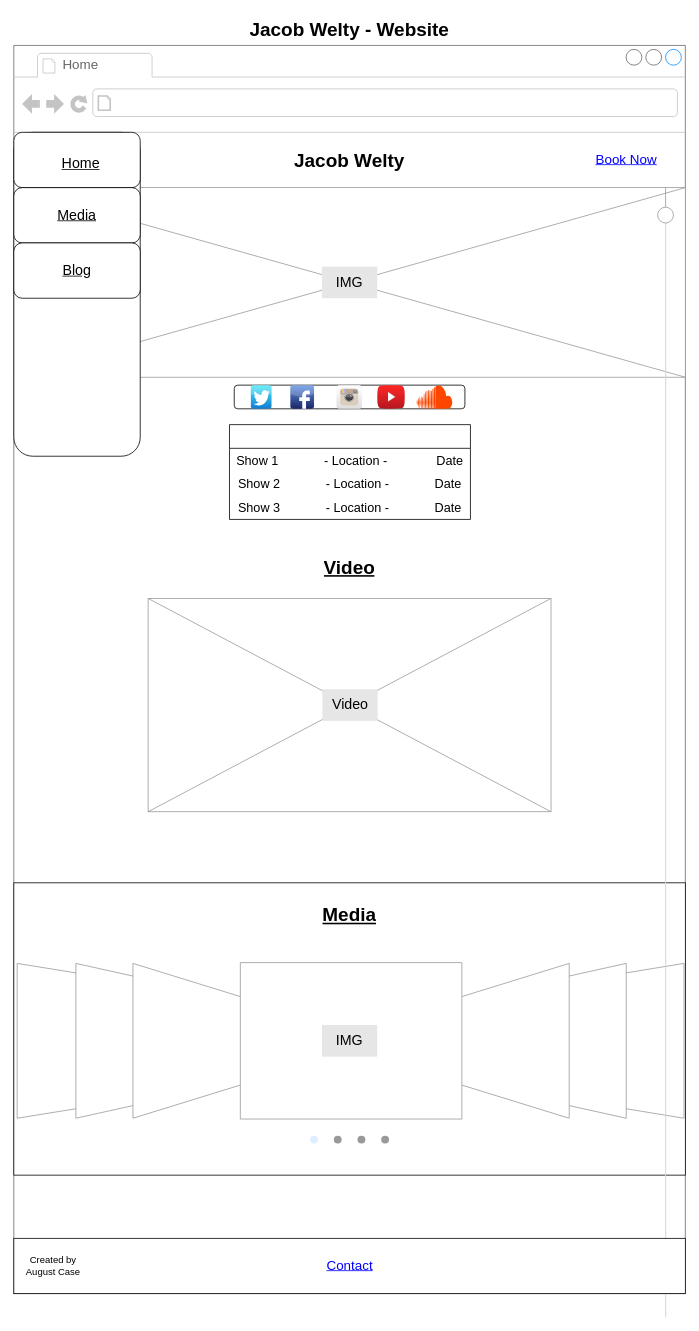
Image size: 699x1331. Some labels were removed from this diagram. The shapes that lost their labels are listed below. From the top down, each one's box as (x1, y1, x2, y2) in pixels, then its label:
(116, 92, 314, 113): https://www.JacobWeltyMusic.com
(229, 424, 470, 519): Upcoming Shows
